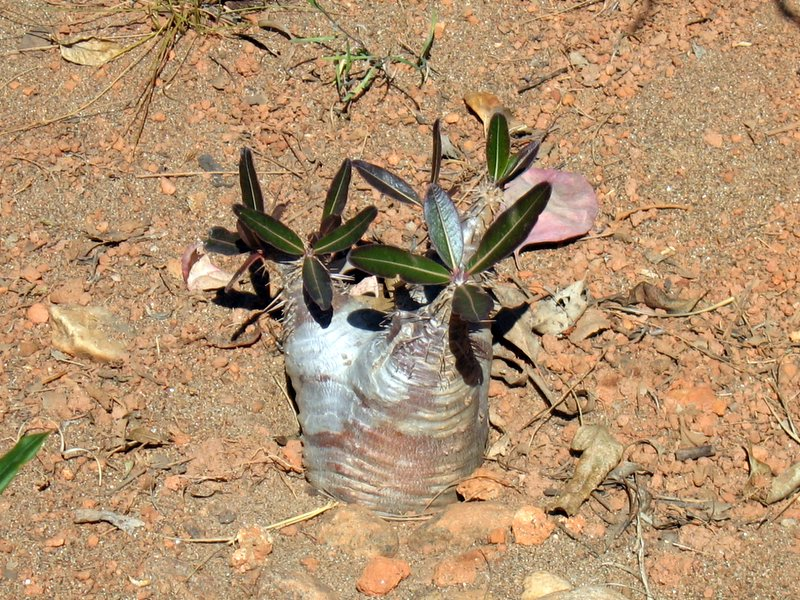Pachypodium rosulatum: (222, 117, 602, 521)
